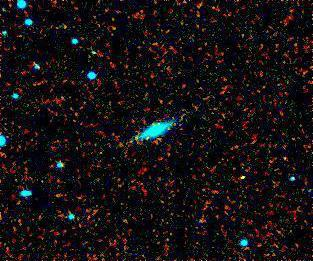star: (117, 126, 147, 156)
